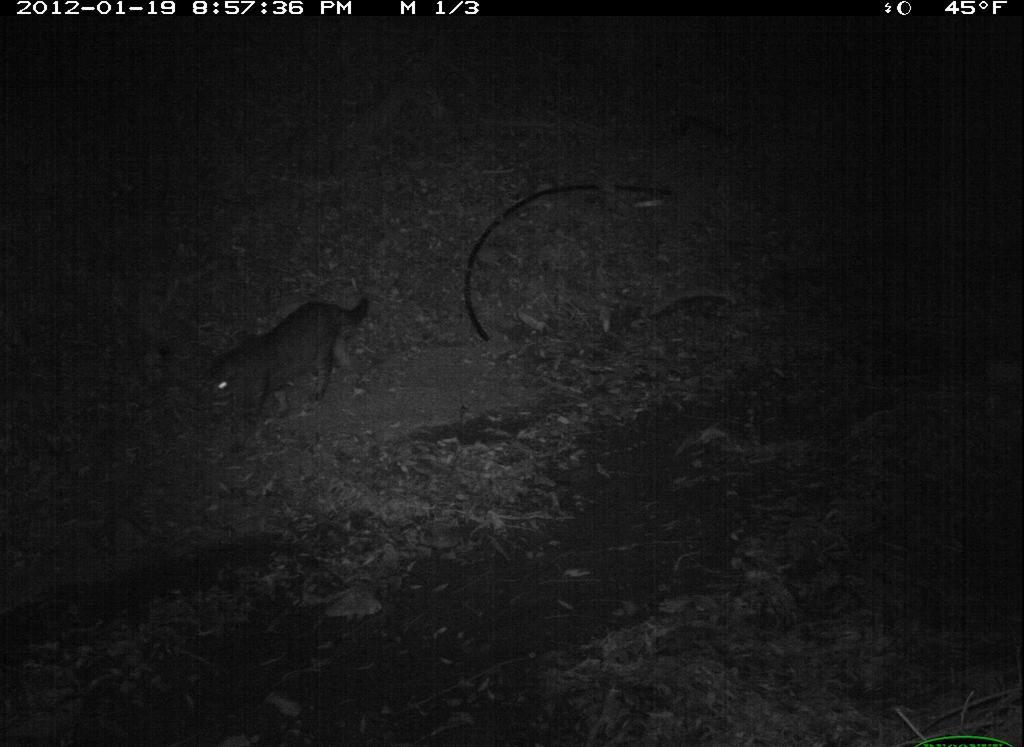cat: (203, 287, 378, 446)
